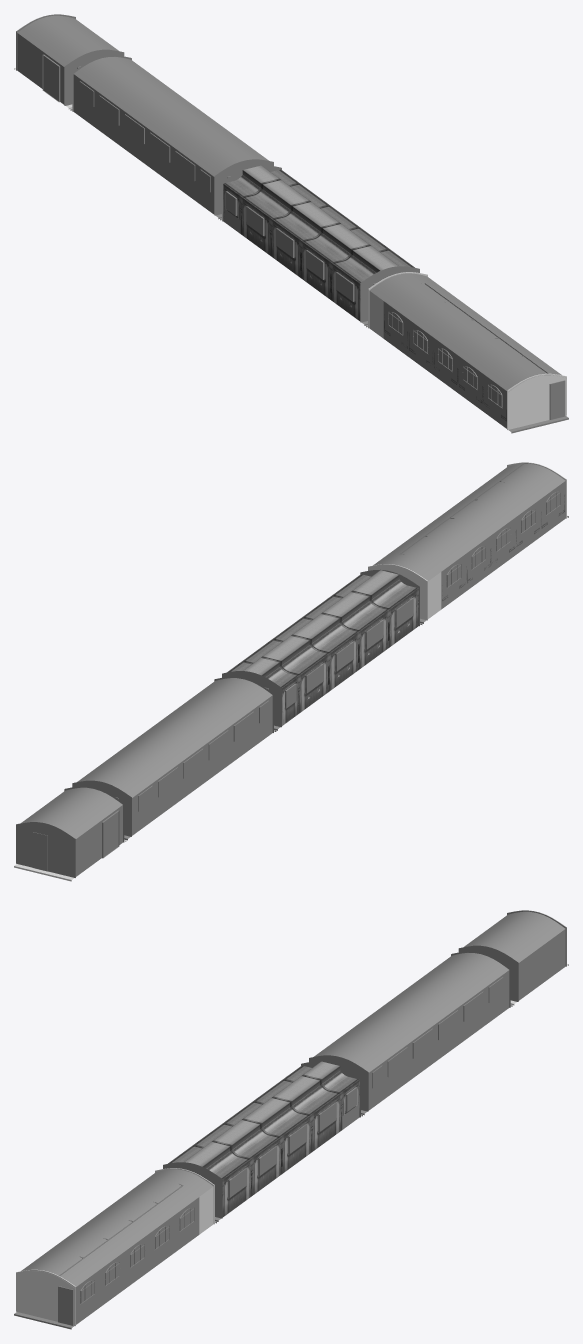
File: train.FBX
3 renders of one model, top to bottom at view 1: azimuth 30°, elevation 25°; view 2: azimuth 150°, elevation 25°; view 3: azimuth 330°, elevation 25°, orthographic.
Parts seen in each view (by area): view 1: EC_roof, FC_roof, DR_roof, EC_sideWall, DR, SC_floor, DR_floor001, EC_windows, DR_windows, SC_walls, FC_windowWall_05, DR_exterior001 (+8 smaller); view 2: EC_roof, FC_roof, DR_roof, SC_floor, EC_sideWall, DR, EC_windows, DR_windows, SC_walls, DR_floor001, FC_windowWall_05, FC_windowWall_01 (+8 smaller); view 3: EC_roof, FC_roof, DR_roof, EC_sideWall, DR, SC_floor, DR_floor001, EC_windows, SC_walls, DR_windows, FC_windowWall_04, FC_windowWall_05 (+7 smaller).
Part boxes in pixels (bbox=[...]): EC_roof: bbox=[74, 57, 268, 176]; FC_roof: bbox=[369, 273, 561, 391]; DR_roof: bbox=[224, 165, 414, 283]; EC_sideWall: bbox=[73, 74, 214, 214]; DR: bbox=[223, 184, 360, 321]; SC_floor: bbox=[14, 14, 124, 109]; DR_floor001: bbox=[366, 272, 568, 433]; EC_windows: bbox=[79, 82, 209, 191]; DR_windows: bbox=[225, 192, 352, 301]; SC_walls: bbox=[17, 33, 64, 104]; FC_windowWall_05: bbox=[383, 301, 408, 356]; DR_exterior001: bbox=[72, 55, 273, 215]; EC_roof: bbox=[77, 678, 272, 797]; FC_roof: bbox=[373, 463, 565, 581]; DR_roof: bbox=[227, 570, 418, 687]; SC_floor: bbox=[14, 786, 126, 881]; EC_sideWall: bbox=[132, 695, 272, 835]; DR: bbox=[282, 588, 418, 724]; EC_windows: bbox=[139, 701, 269, 811]; DR_windows: bbox=[286, 598, 413, 708]; SC_walls: bbox=[76, 805, 122, 876]; DR_floor001: bbox=[368, 462, 568, 623]; FC_windowWall_05: bbox=[441, 554, 466, 609]; FC_windowWall_01: bbox=[540, 481, 565, 536]; EC_roof: bbox=[314, 953, 508, 1072]; FC_roof: bbox=[21, 1169, 213, 1287]; DR_roof: bbox=[168, 1061, 358, 1179]; EC_sideWall: bbox=[368, 970, 509, 1110]; DR: bbox=[222, 1080, 359, 1217]; SC_floor: bbox=[458, 910, 568, 1005]; DR_floor001: bbox=[14, 1168, 216, 1329]; EC_windows: bbox=[373, 978, 503, 1087]; SC_walls: bbox=[518, 929, 565, 1000]; DR_windows: bbox=[230, 1088, 357, 1197]; FC_windowWall_04: bbox=[149, 1215, 174, 1270]; FC_windowWall_05: bbox=[174, 1197, 199, 1252].
Size of the model in its own units: 165 by 127 by 2345.
